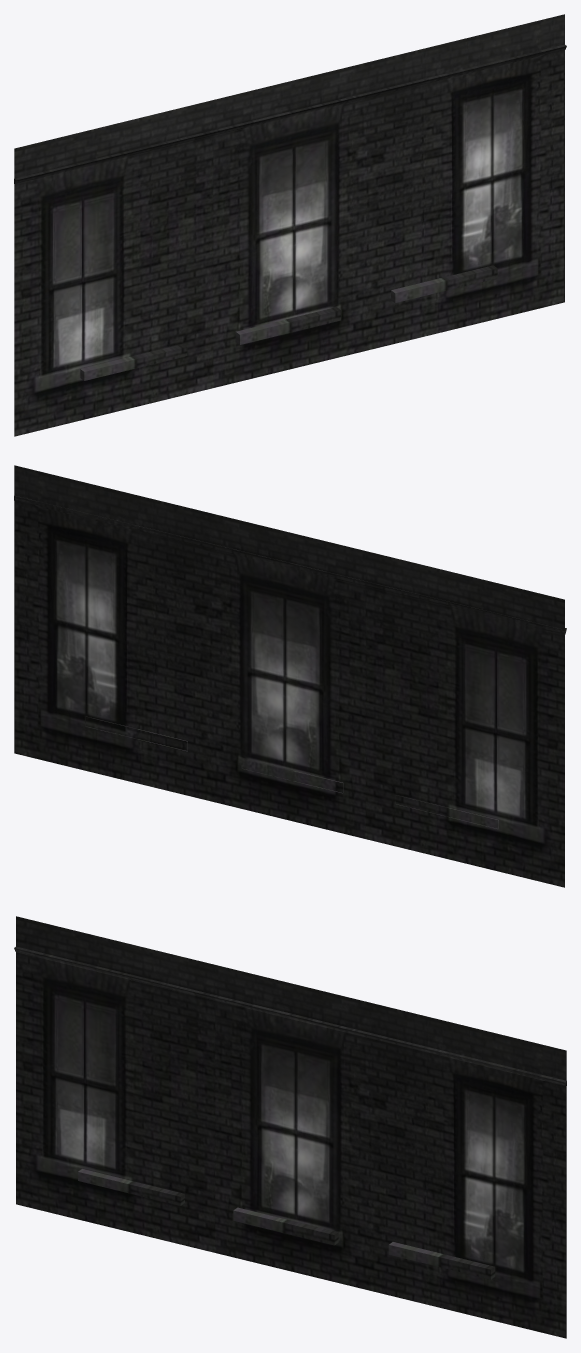
The model's file is floor.obj.
3 renders of one model, top to bottom at view 1: azimuth 30°, elevation 25°; view 2: azimuth 150°, elevation 25°; view 3: azimuth 330°, elevation 25°, orthographic.
Parts seen in each view (by area): view 1: group; view 2: group; view 3: group.
Part boxes in pixels (x1=…): group: x1=14, y1=14, x2=566, y2=436; group: x1=14, y1=465, x2=566, y2=887; group: x1=14, y1=916, x2=566, y2=1338.
Bounding box in the file's own units: 10 × 5 × 0.145.
